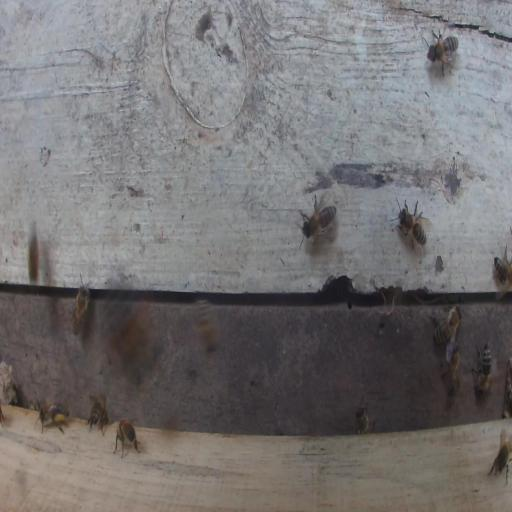nonpollenbee: (390, 197, 427, 257), (299, 193, 337, 248), (426, 29, 460, 77), (471, 340, 492, 400), (114, 416, 143, 459), (488, 428, 511, 482), (193, 304, 219, 351), (433, 304, 462, 346), (71, 276, 90, 336), (442, 340, 460, 399), (87, 392, 110, 437), (493, 242, 511, 295), (355, 392, 372, 436)
pollenbee: (33, 402, 70, 436)
